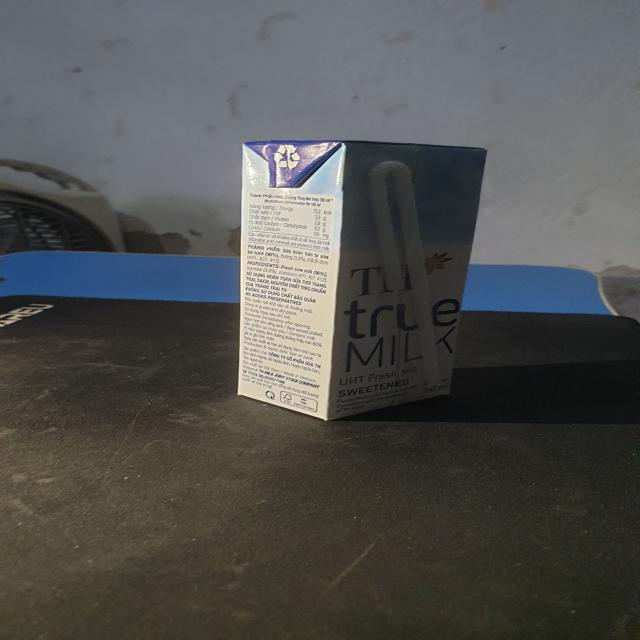TH: (238, 138, 495, 423)
